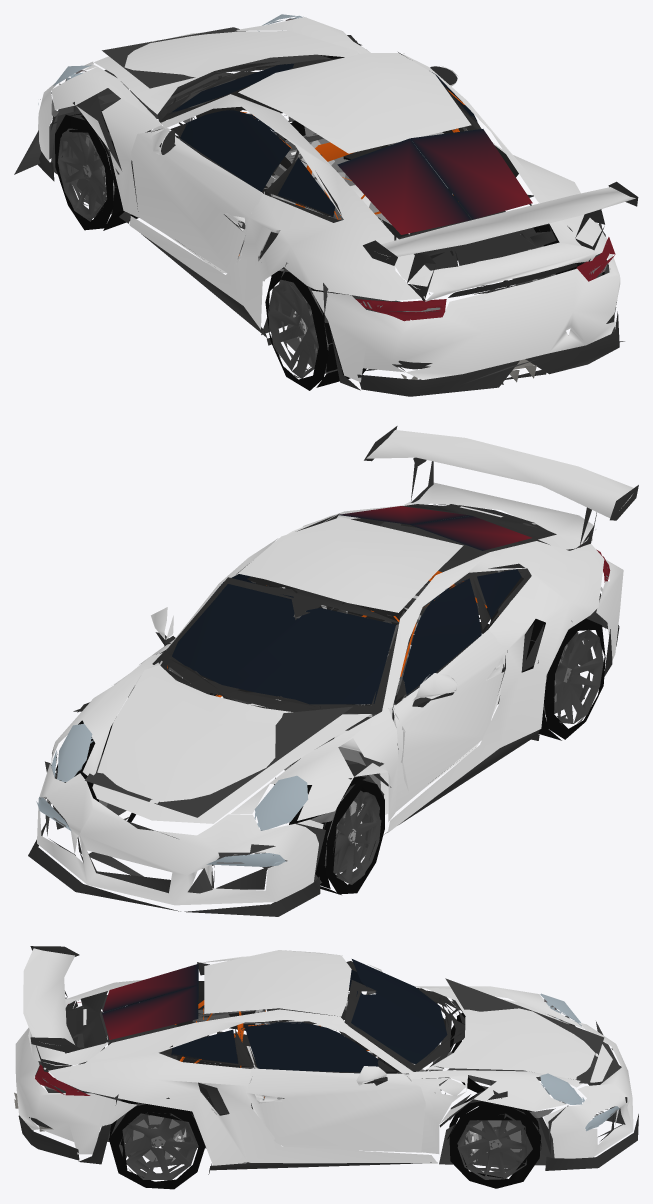
Rendered from porsche-911-gt3-race.glb.
3 views of the same model, one above another, from view 1: azimuth 30°, elevation 25°; view 2: azimuth 150°, elevation 25°; view 3: azimuth 270°, elevation 25° (orthographic). The views are drawn at different scales.
Visible parts, largest first — view 1: Body; view 2: Body; view 3: Body.
Boxes of the visible parts, x1,y1,x2,y2 form: Body: (14, 14, 638, 396); Body: (28, 426, 638, 916); Body: (14, 946, 638, 1189).
Size of the model in its own units: 2.05 by 1.24 by 4.28.
